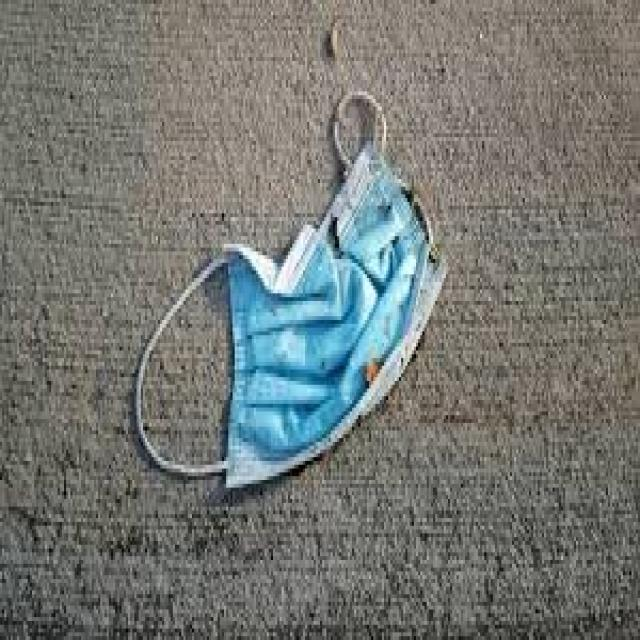face_mask: (194, 176, 461, 507)
